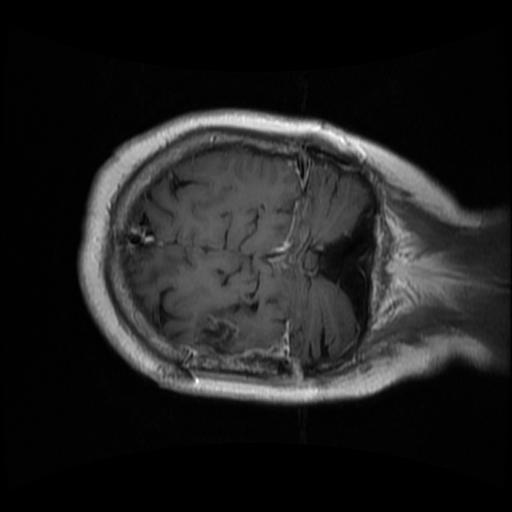glioma: (193, 313, 241, 356)
